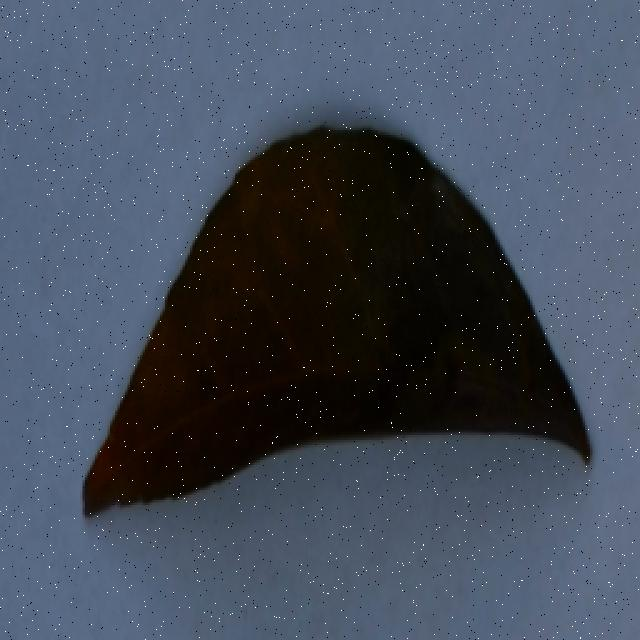greening: (92, 122, 620, 542)
